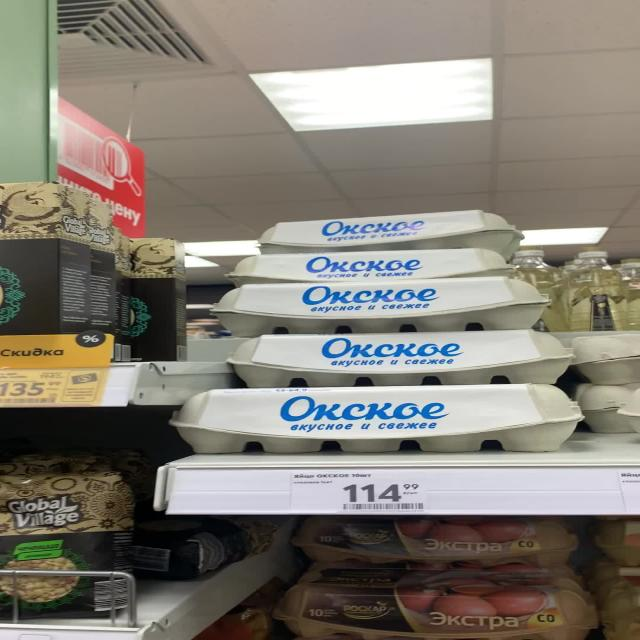egg box: (168, 386, 582, 452), (282, 564, 594, 637), (224, 329, 576, 385), (204, 277, 555, 330), (254, 210, 518, 252), (220, 246, 504, 282)
